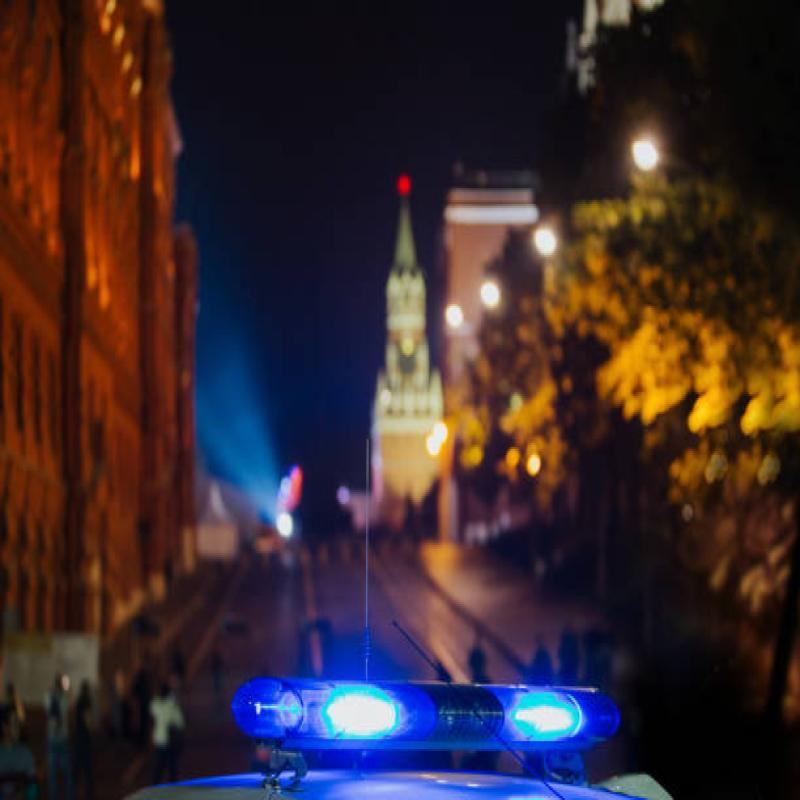AmbulanceSiren: (219, 638, 612, 780)
